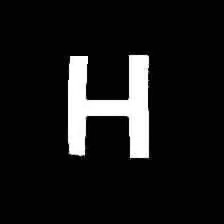LTR_H: (57, 44, 152, 162)
